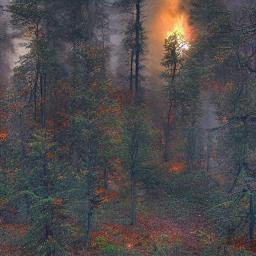Low smoke: (0, 1, 46, 103)
Medium fire: (153, 0, 200, 92)
